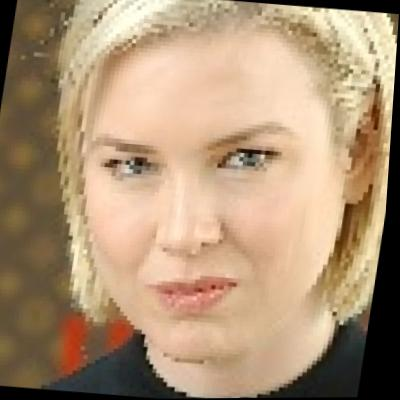angry: (56, 18, 373, 372)
